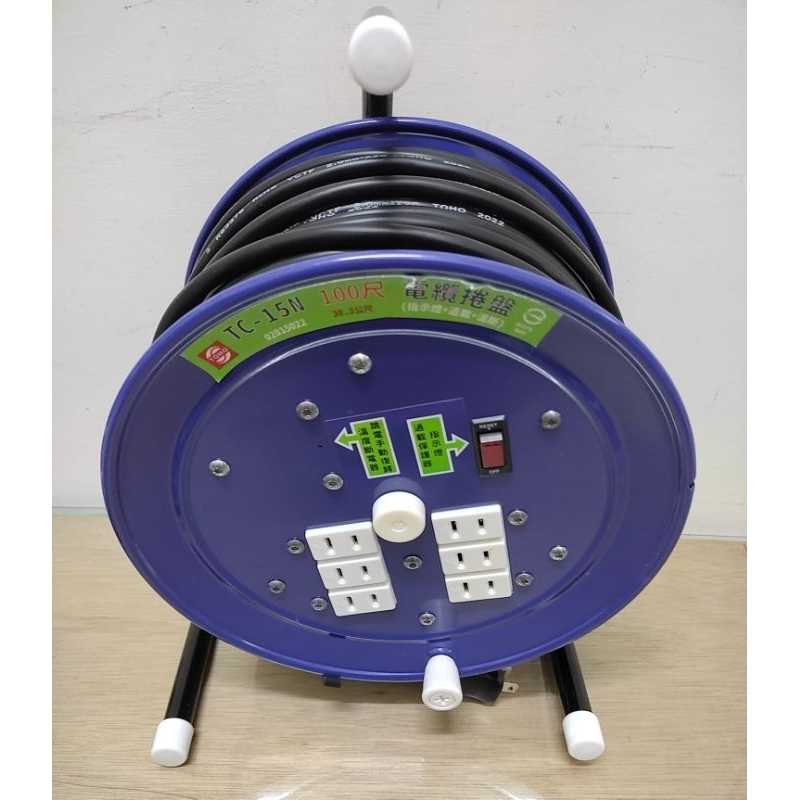socket: (101, 115, 697, 683)
